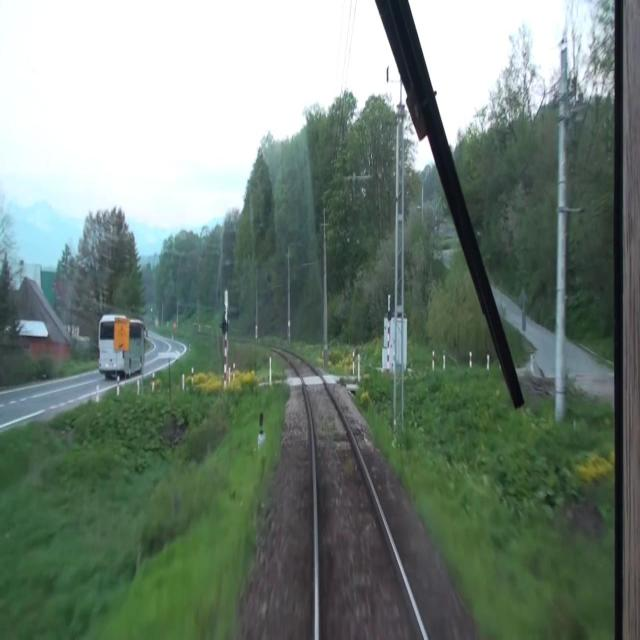bus-truck: (100, 315, 149, 382)
